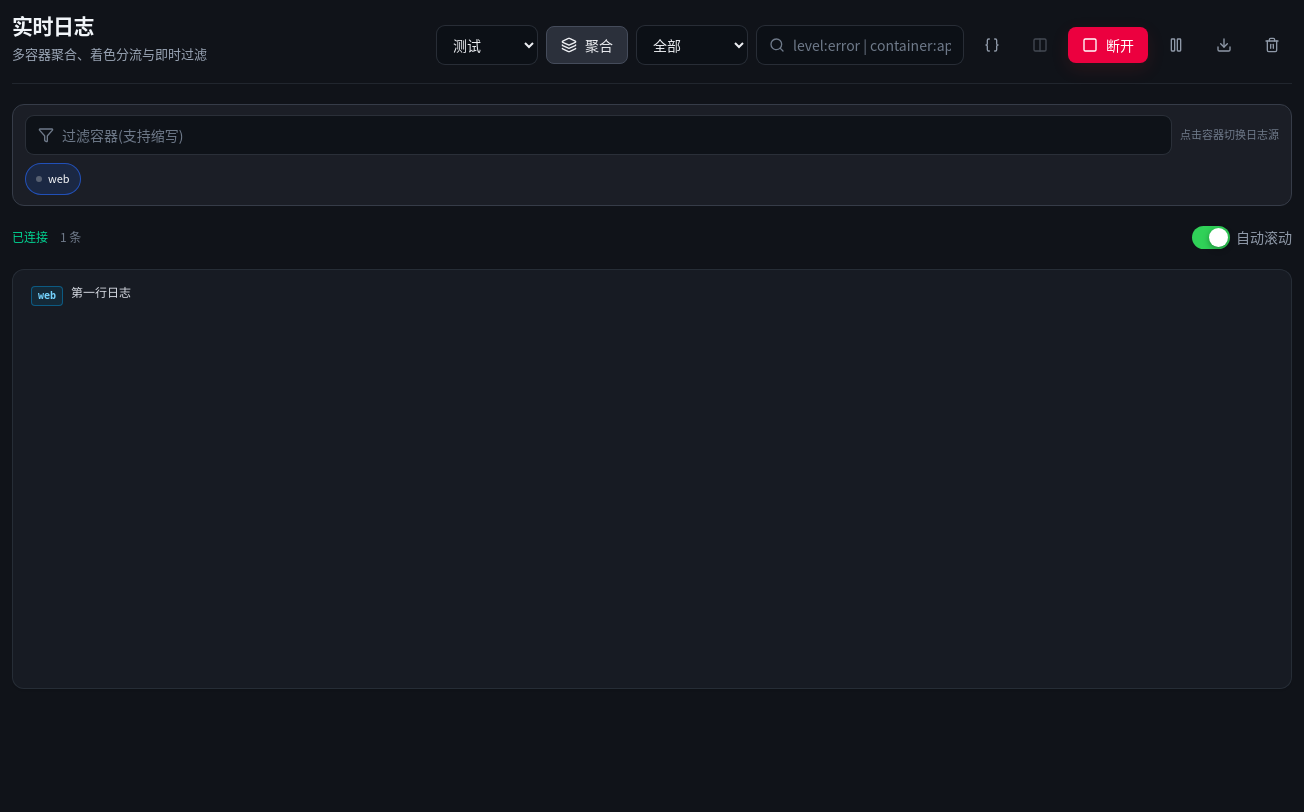
Test: 日志页面生命周期与数据完整性 › 查询语法写错时保留上一次结果,只提示不清空日志
In the field with placeholder "level:error | container:api": (872, 45) [793, 27, 951, 63], type "第一行"
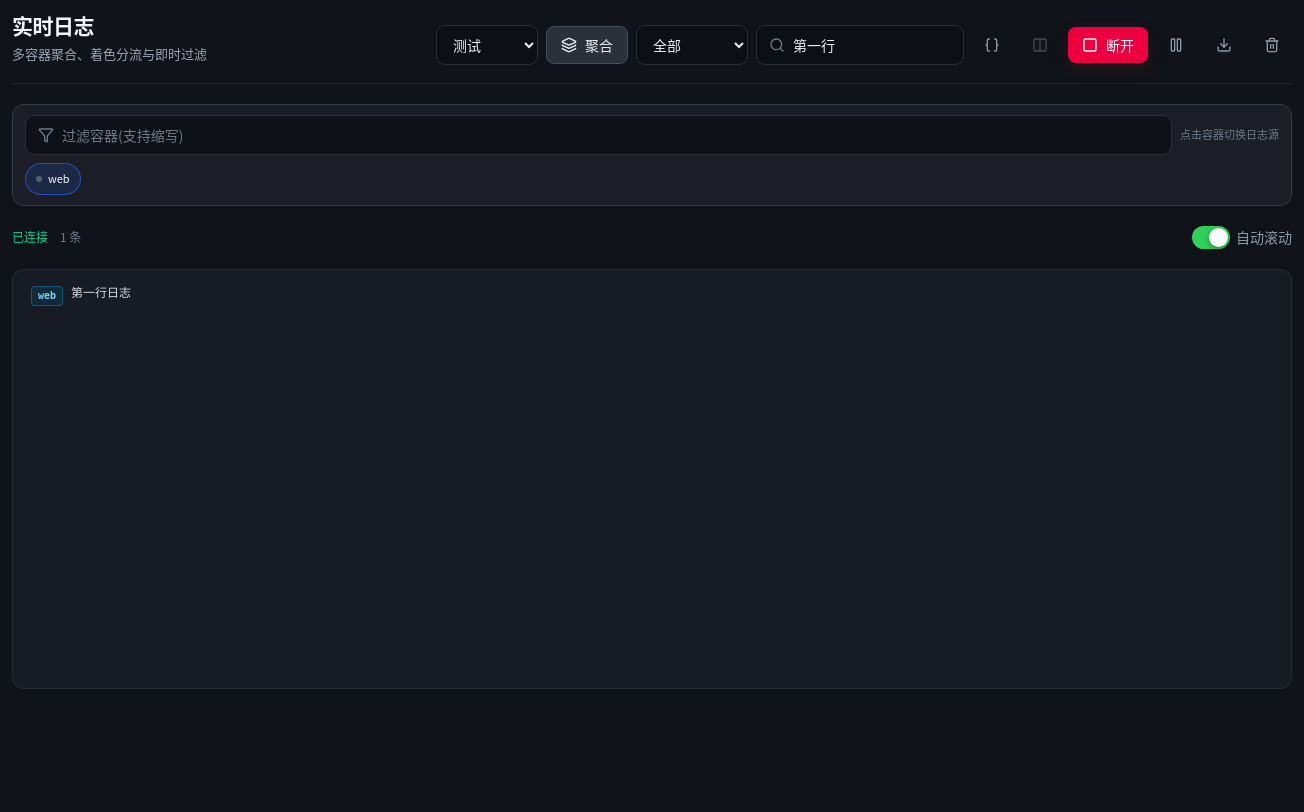
Expected: the number of elements with class "aggregate-line" is 1, [31, 286, 131, 306]
# 未写完的字段谓词:提示错误,但屏幕上的日志维持上一次的有效过滤。
Replace the text in the field with placeholder "level:error | container:api" with "第一行 container:": (872, 45) [793, 27, 951, 63]
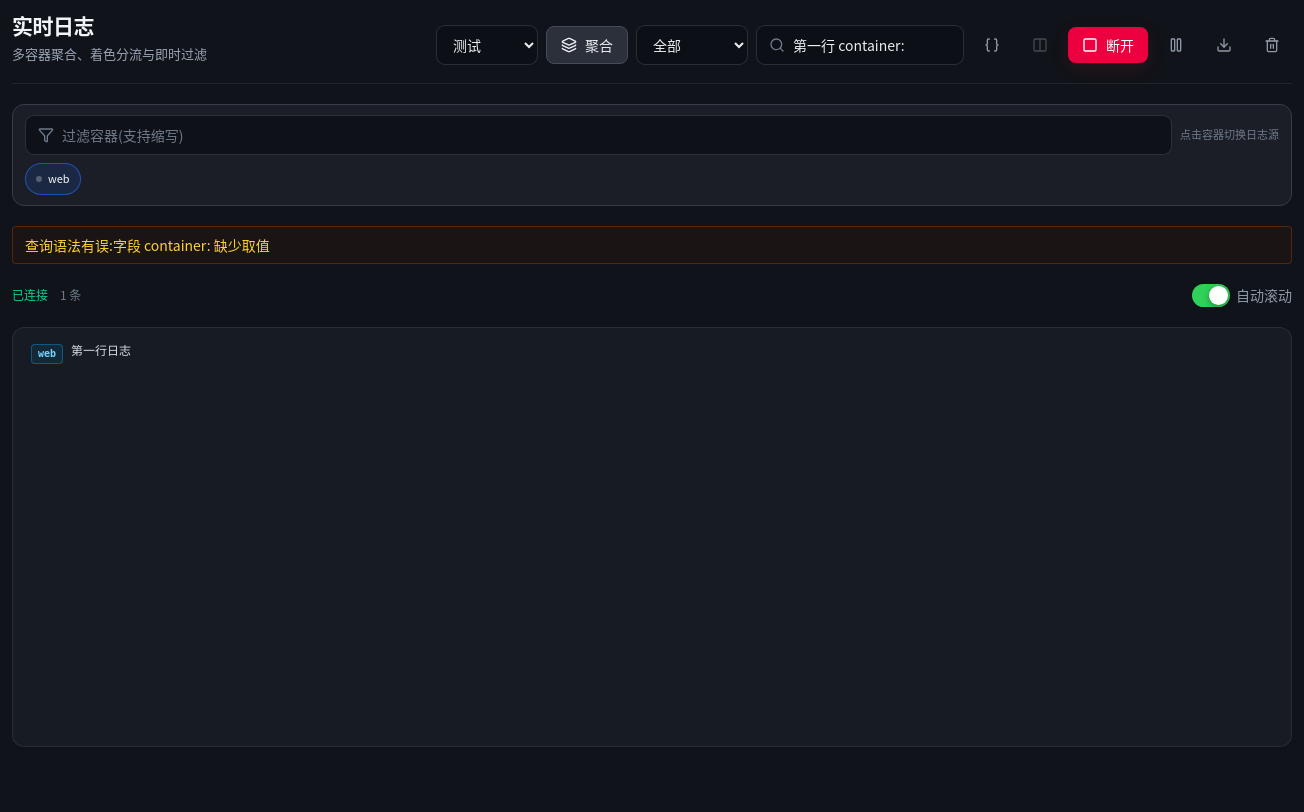
Expected: the number of elements with class "aggregate-line" is 1, [31, 344, 131, 364]
Expected: the message with class "alert-warning" shows "字段 container: 缺少取值", [25, 235, 270, 255]
# 上一次查询本身就无命中时,空态文案要说明结果是被保留的,不是被清空的。
Replace the text in the field with placeholder "level:error | container:api" with "不存在的关键字": (872, 45) [793, 27, 951, 63]
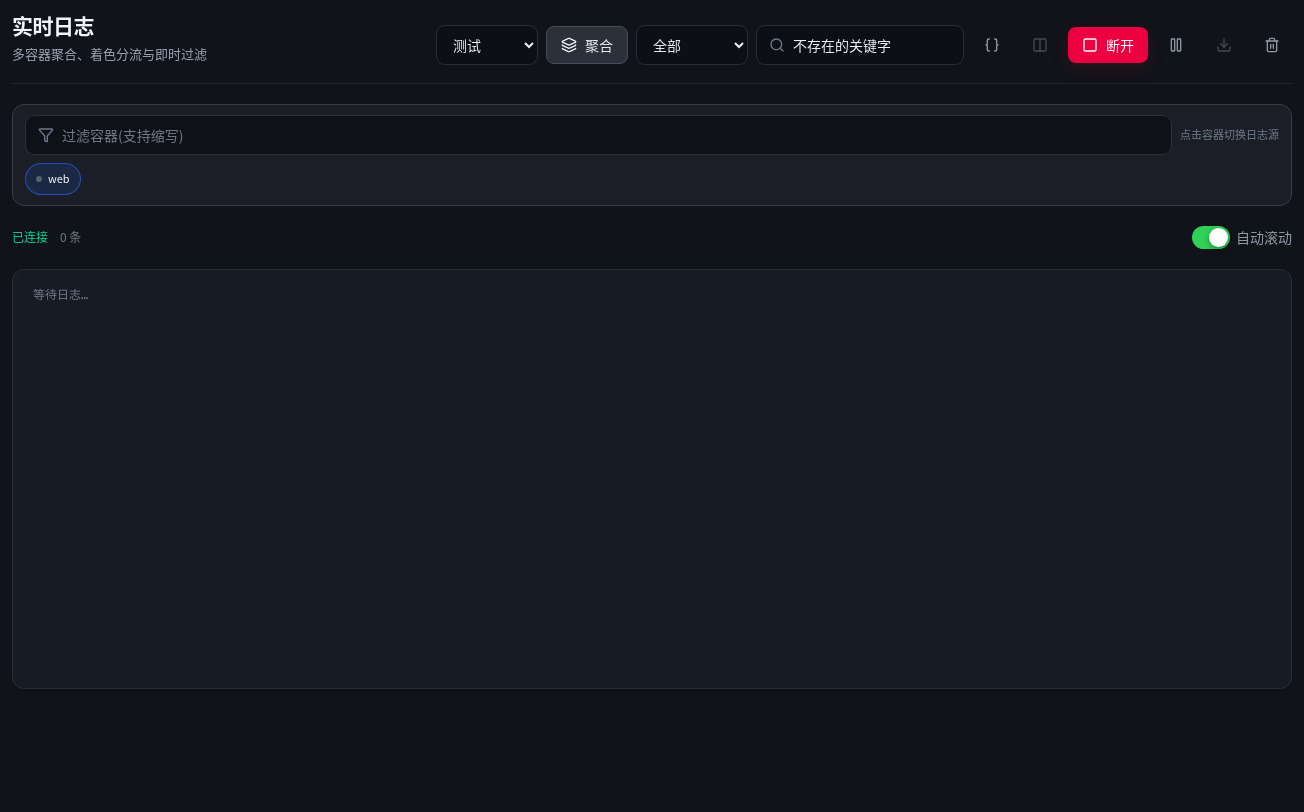
Expected: no elements with class "aggregate-line" are shown
Replace the text in the field with placeholder "level:error | container:api" with "不存在的关键字 container:": (872, 45) [793, 27, 951, 63]
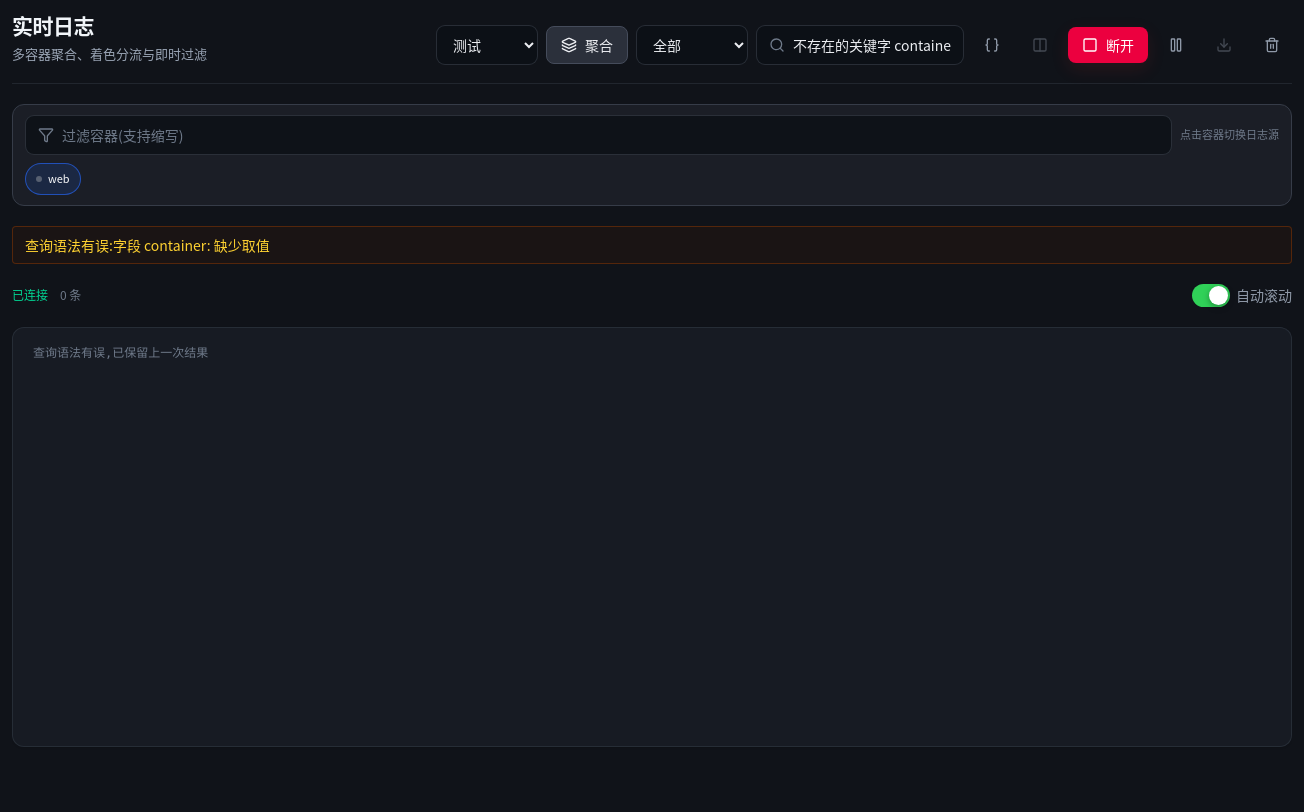
Expected: the message with class "alert-warning" shows "字段 container: 缺少取值", [25, 235, 270, 255]
Expected: the text "查询语法有误,已保留上一次结果" is shown, [33, 346, 208, 360]
